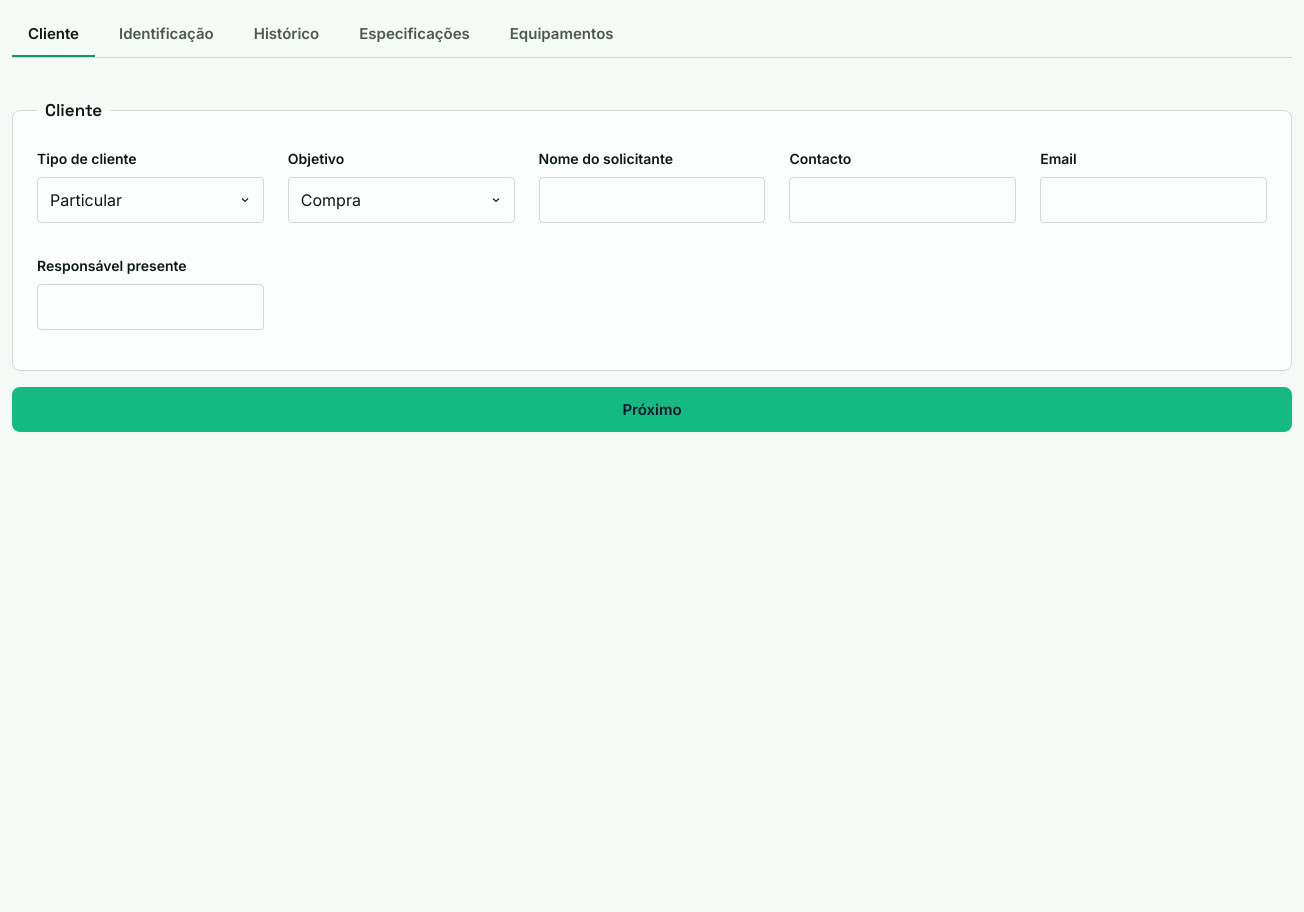
Scenario: NewInspectionForm › renders data da primeira matrícula and valor base IUC anual as standalone fields
Click the tab "Histórico".
click(286, 34)  # box [238, 12, 335, 57]
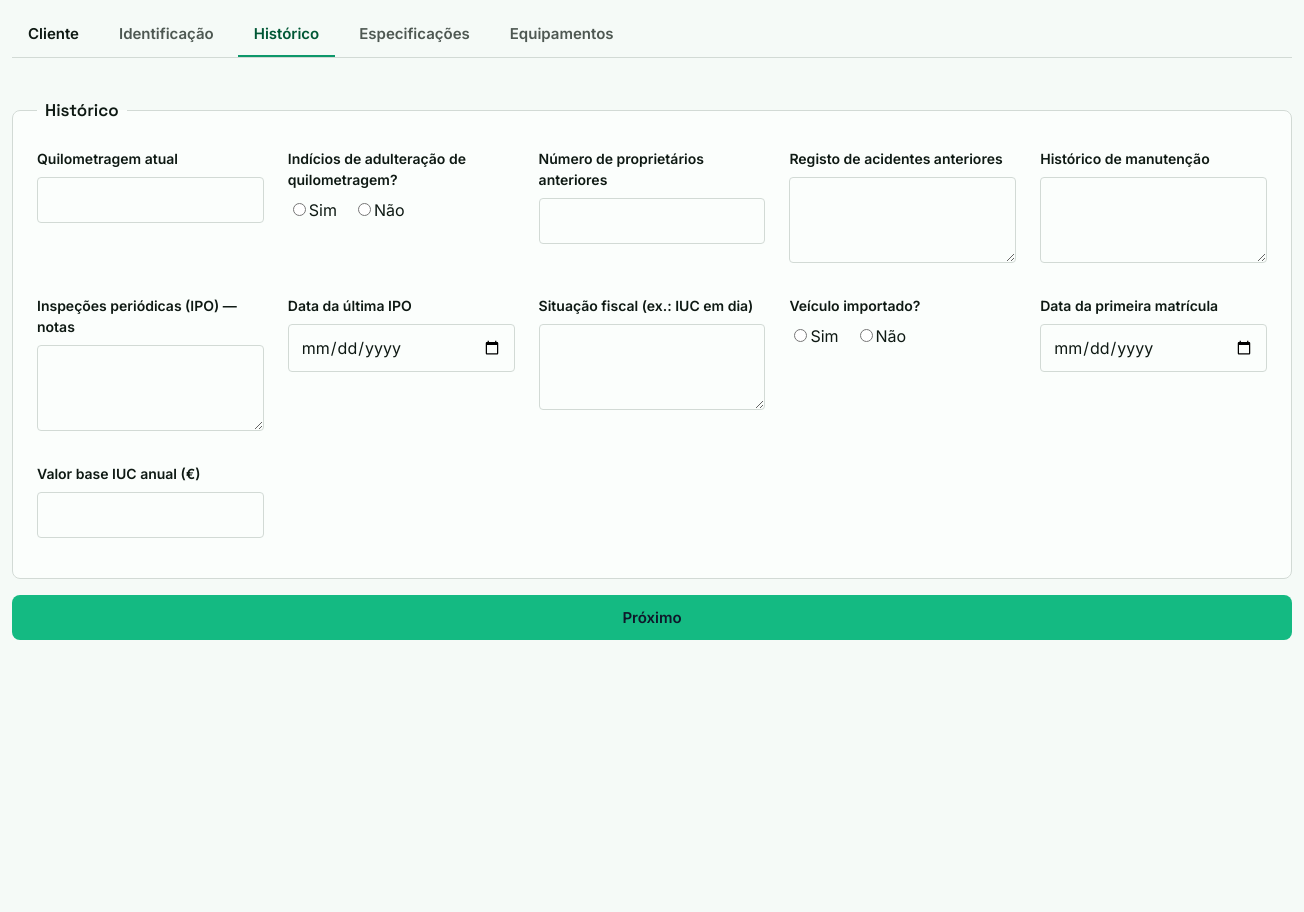
Expected: the date field labelled "Data da primeira matrícula" is shown, [1040, 324, 1267, 372]
Expected: the field labelled "Valor base IUC anual (€)" is shown, [37, 492, 264, 538]
